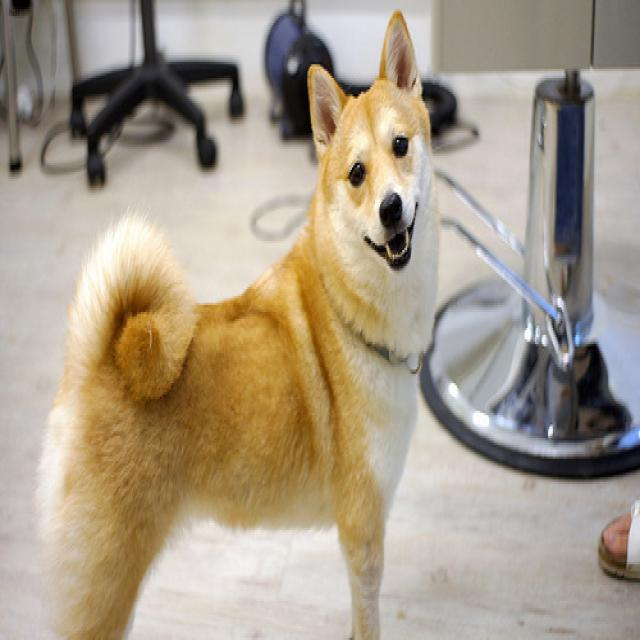dog-shiba_inu: (32, 2, 454, 635)
